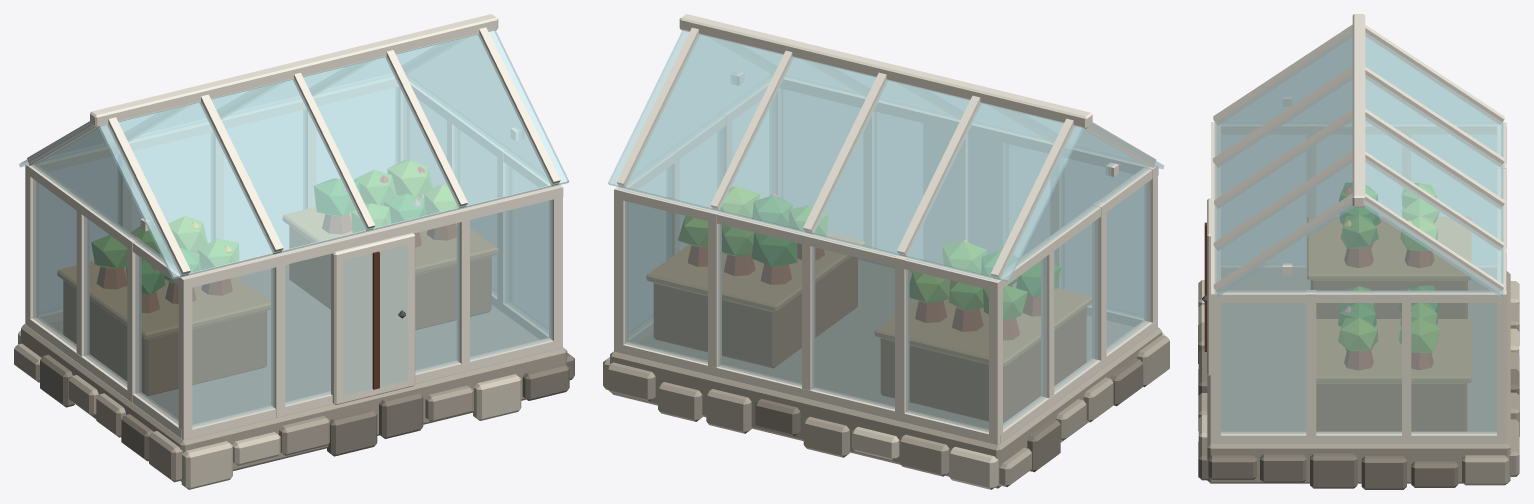
File: Greenhouse.fbx
3 views of the same model, side by side, from view 1: azimuth 30°, elevation 25°; view 2: azimuth 150°, elevation 25°; view 3: azimuth 270°, elevation 25° (orthographic). The views are drawn at different scales.
Parts seen in each view (by area): view 1: Greenhouse; view 2: Greenhouse; view 3: Greenhouse.
Part boxes in pixels (x1,y1,x2,y2): Greenhouse: (14,14,574,489); Greenhouse: (603,14,1169,489); Greenhouse: (1198,14,1519,489).
Size of the model in its own units: 5.02 by 3.79 by 3.72.
